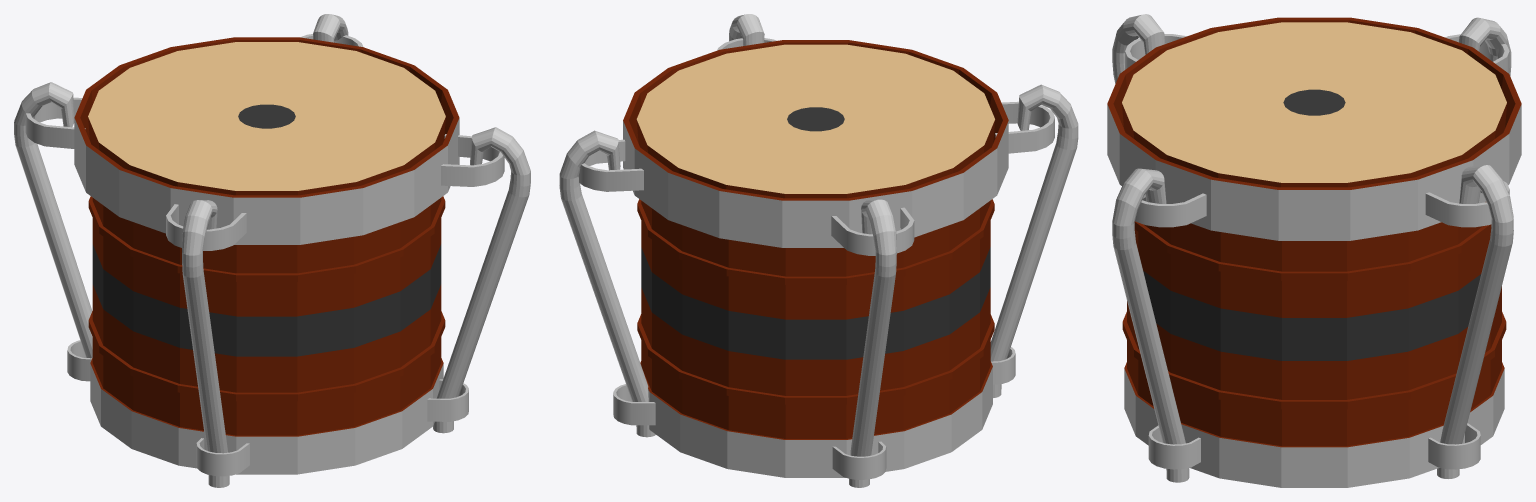
Rendered from 6ed37fd1-9424-4d1f-a364-86448635aef4.glb.
3 views of the same model, side by side, from view 1: azimuth 30°, elevation 25°; view 2: azimuth 150°, elevation 25°; view 3: azimuth 270°, elevation 25° (orthographic). The views are drawn at different scales.
Visible parts, largest first — view 1: Cylinder024, Cylinder016, Cylinder021, Cylinder020, Cylinder026, Cylinder019, Cylinder022, Cylinder028, Cylinder023, Cylinder018, Cylinder017; view 2: Cylinder024, Cylinder020, Cylinder018, Cylinder021, Cylinder025, Cylinder022, Cylinder019, Cylinder017, Cylinder027, Cylinder016, Cylinder028; view 3: Cylinder024, Cylinder018, Cylinder016, Cylinder026, Cylinder020, Cylinder025, Cylinder027, Cylinder023, Cylinder021, Cylinder022, Cylinder019.
Part boxes in pixels (x1,y1,x2,y2): Cylinder024: (74,37,459,474); Cylinder016: (433,127,530,433); Cylinder021: (14,82,92,358); Cylinder020: (182,200,229,487); Cylinder026: (441,134,504,186); Cylinder019: (25,97,85,148); Cylinder022: (166,204,246,250); Cylinder028: (196,438,249,476); Cylinder023: (427,379,468,421); Cylinder018: (313,14,348,42); Cylinder017: (67,340,91,381); Cylinder024: (623,40,1008,477); Cylinder020: (990,84,1078,397); Cylinder018: (559,130,655,437); Cylinder021: (849,199,896,487); Cylinder025: (578,139,643,191); Cylinder022: (995,101,1054,153); Cylinder019: (831,207,914,255); Cylinder017: (832,441,886,479); Cylinder027: (613,384,655,425); Cylinder016: (729,14,764,45); Cylinder028: (991,347,1015,384); Cylinder024: (1107,17,1521,487); Cylinder018: (1437,165,1513,478); Cylinder016: (1112,168,1189,482); Cylinder026: (1135,193,1206,227); Cylinder020: (1112,14,1165,83); Cylinder025: (1425,181,1509,227); Cylinder027: (1428,423,1480,469); Cylinder023: (1148,425,1200,469); Cylinder021: (1459,17,1511,75); Cylinder022: (1125,34,1186,69); Cylinder019: (1445,34,1509,73).
Bounding box in the file's own units: 576366 × 483211 × 555011.
